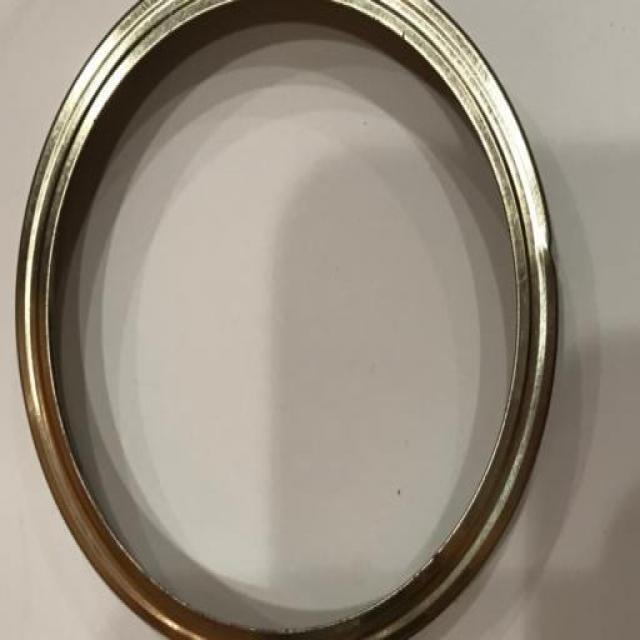metel: (2, 1, 594, 640)
